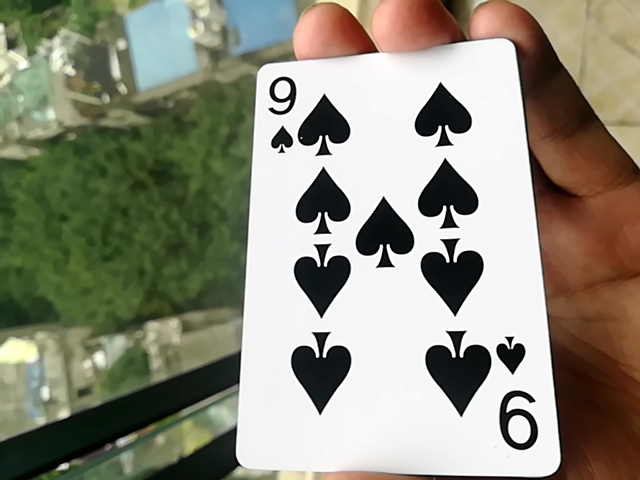ht 9: (233, 40, 544, 475)
